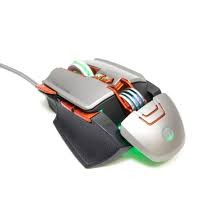mouse: (34, 55, 190, 177)
